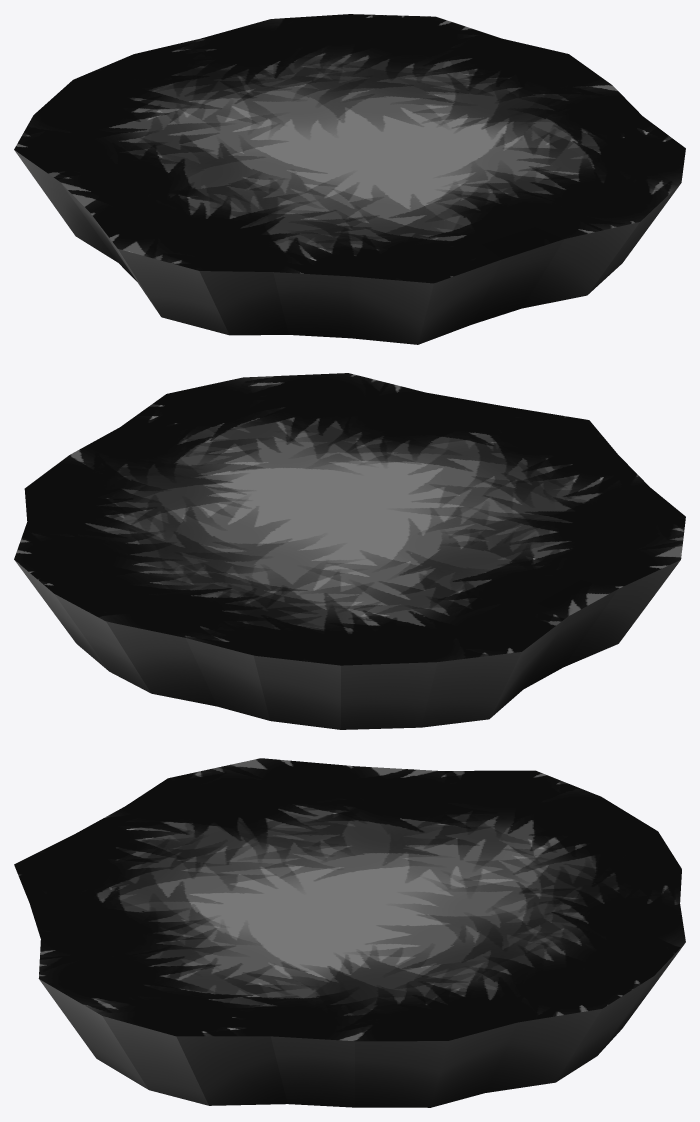
The model's file is Platform2.fbx.
3 renders of one model, top to bottom at view 1: azimuth 30°, elevation 25°; view 2: azimuth 150°, elevation 25°; view 3: azimuth 270°, elevation 25°, orthographic. The views are drawn at different scales.
Visible parts, largest first — view 1: Cylinder; view 2: Cylinder; view 3: Cylinder.
Boxes of the visible parts, x1=… form: Cylinder: x1=14, y1=14, x2=685, y2=344; Cylinder: x1=14, y1=373, x2=685, y2=729; Cylinder: x1=14, y1=758, x2=685, y2=1107.
Size of the model in its own units: 1030 by 160 by 1032.
